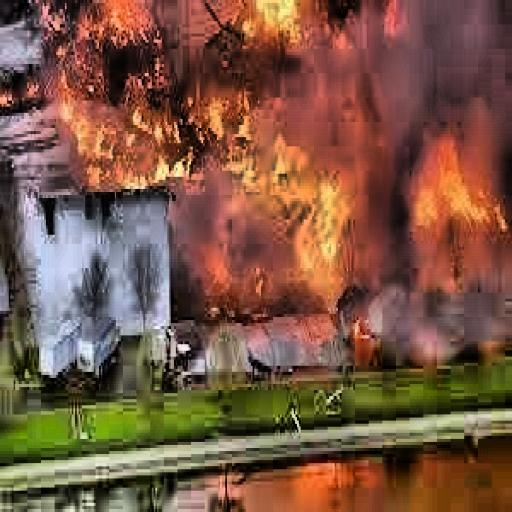fire: (46, 9, 249, 207), (256, 125, 367, 317), (392, 122, 510, 265)
